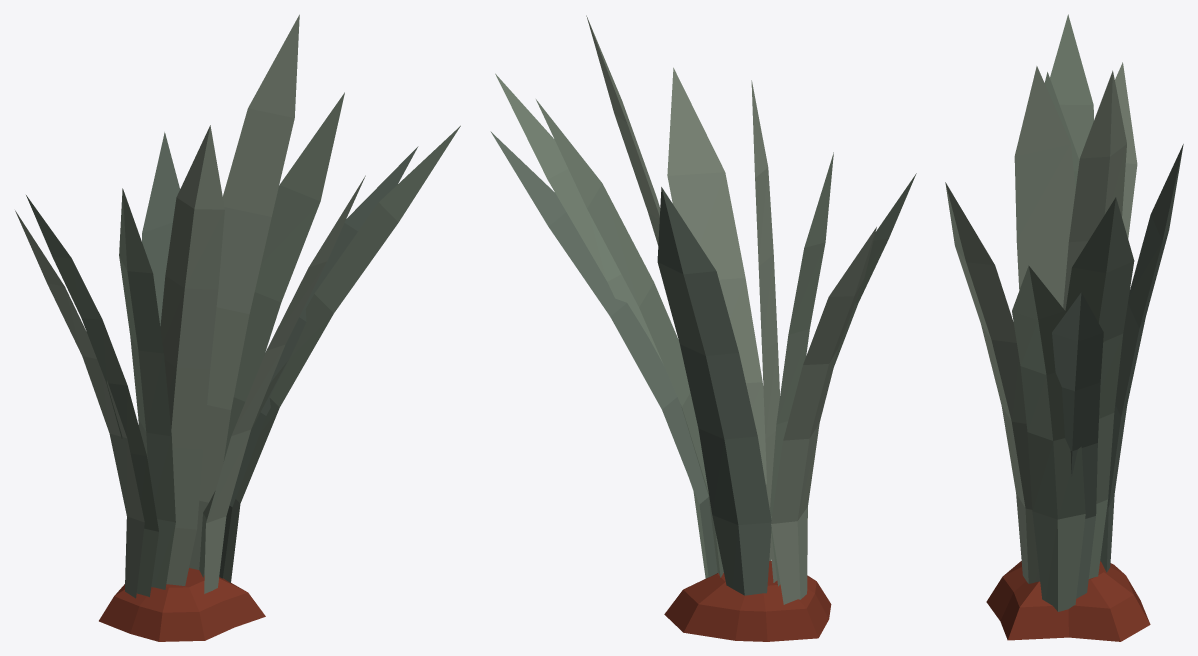
File: reef_seagrass.glb
3 views of the same model, side by side, from view 1: azimuth 30°, elevation 25°; view 2: azimuth 150°, elevation 25°; view 3: azimuth 270°, elevation 25° (orthographic). The views are drawn at different scales.
Visible parts, largest first — view 1: ReefSeagrass; view 2: ReefSeagrass; view 3: ReefSeagrass.
Part boxes in pixels (x1=…): ReefSeagrass: x1=15, y1=14, x2=460, y2=641; ReefSeagrass: x1=490, y1=15, x2=916, y2=641; ReefSeagrass: x1=945, y1=14, x2=1183, y2=641.
Bounding box in the file's own units: 0.3952 × 0.4949 × 0.1741.
